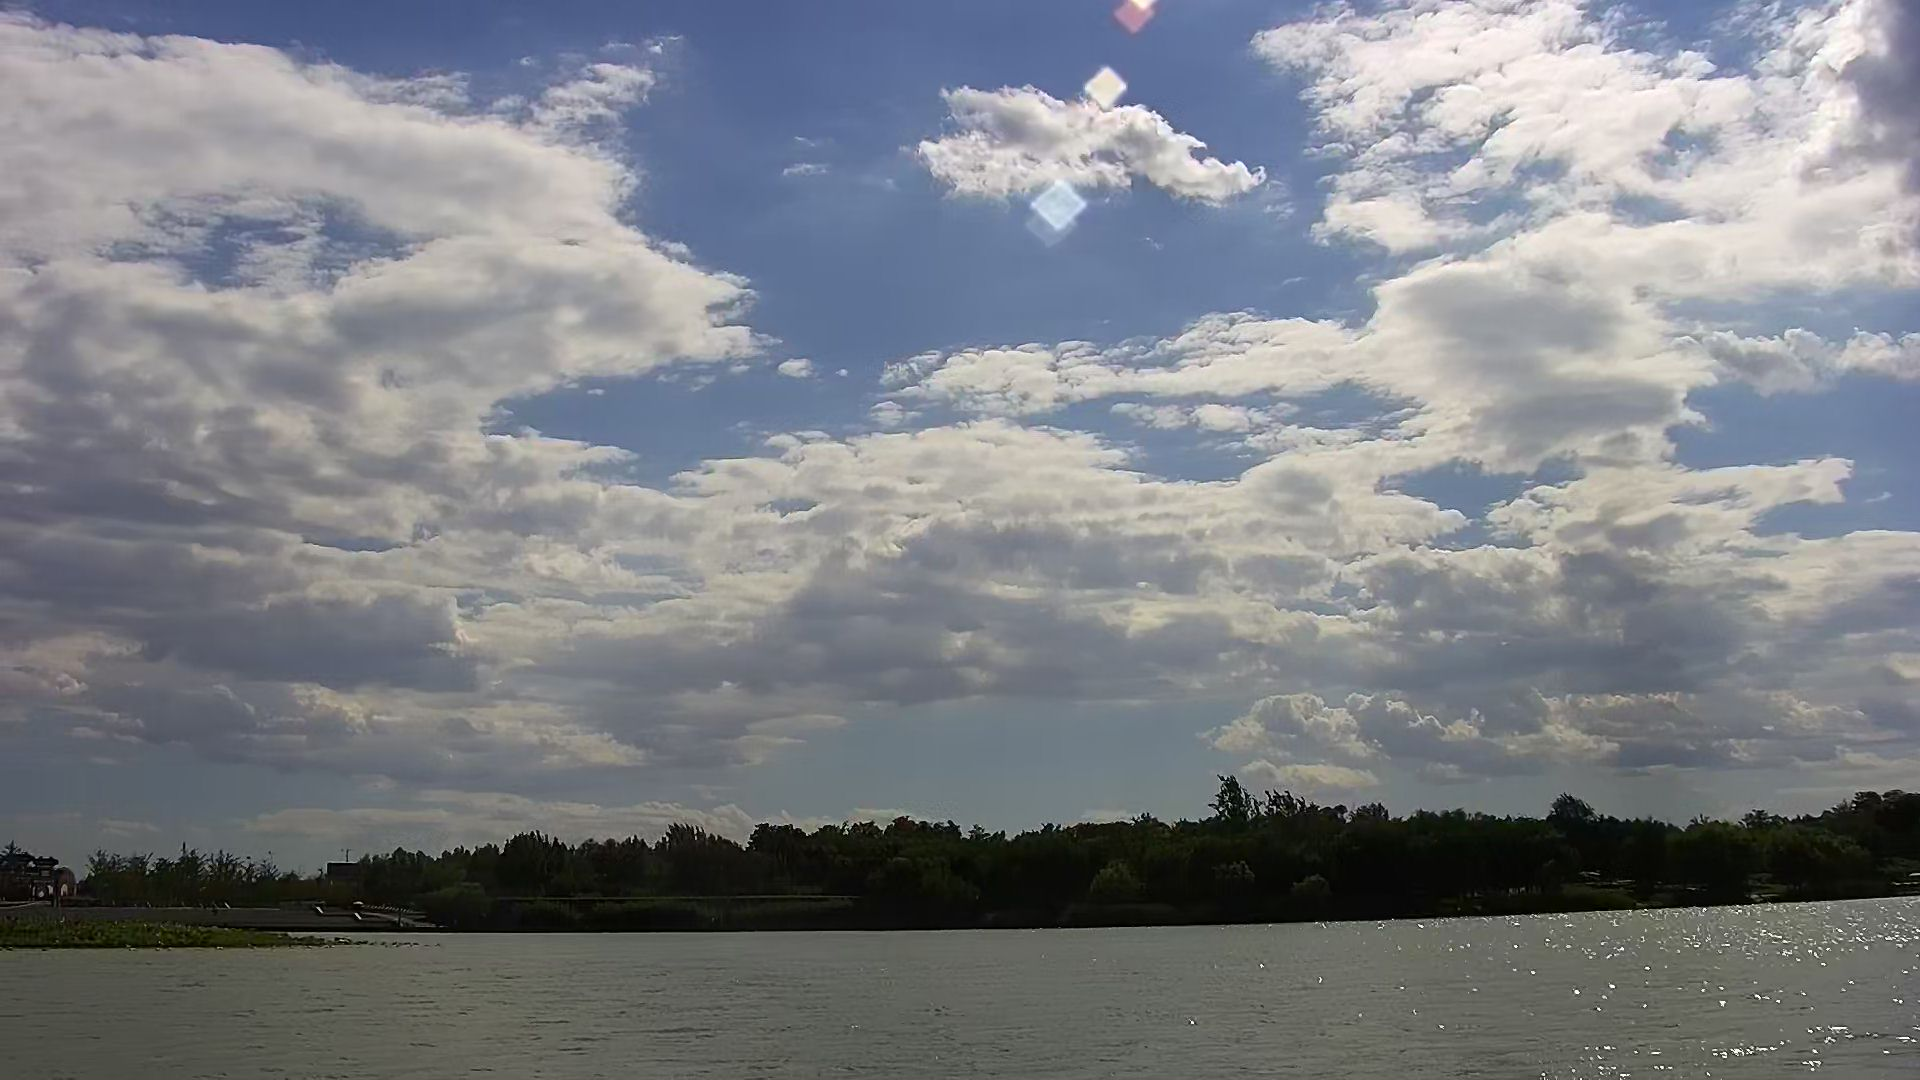harbor: (4, 891, 444, 936)
